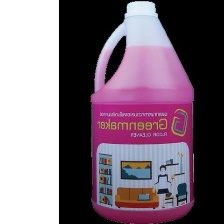cleaning_solution: (88, 0, 196, 223)
